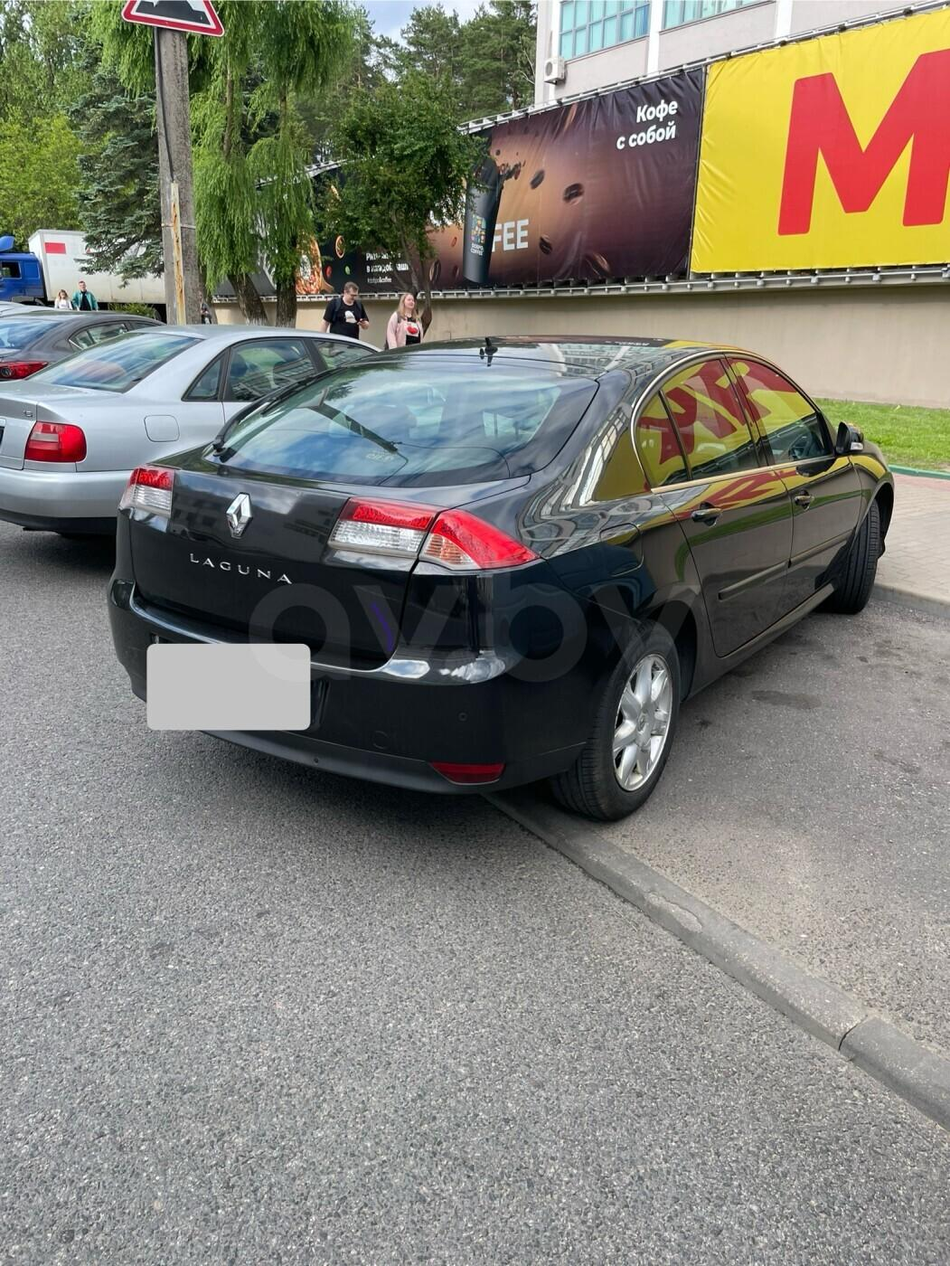Laguna_2007-2011: (108, 335, 893, 819)
